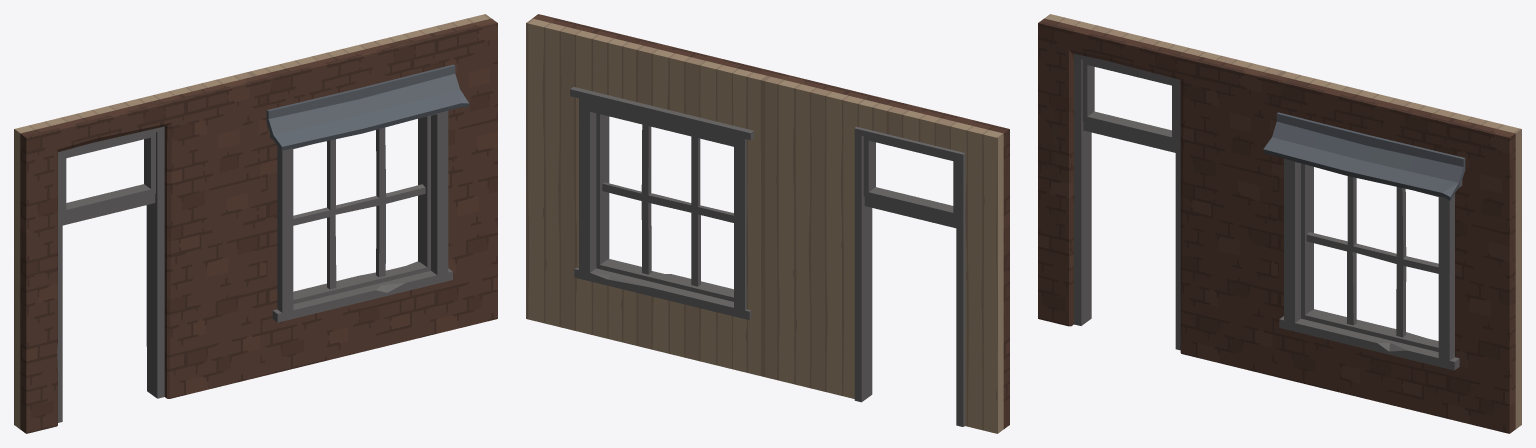
The model's file is SM_Bld_ShopFront_09.obj.
3 renders of one model, left to right at view 1: azimuth 30°, elevation 25°; view 2: azimuth 150°, elevation 25°; view 3: azimuth 330°, elevation 25°, orthographic.
Visible parts, largest first — view 1: SM_Bld_ShopFront_09_2, SM_Bld_ShopFront_09_0, SM_Bld_ShopFront_09_1; view 2: SM_Bld_ShopFront_09_1, SM_Bld_ShopFront_09_0, SM_Bld_ShopFront_09_2; view 3: SM_Bld_ShopFront_09_2, SM_Bld_ShopFront_09_0, SM_Bld_ShopFront_09_1.
Boxes of the visible parts, <box> form: SM_Bld_ShopFront_09_2: <box>20,18,497,433</box>; SM_Bld_ShopFront_09_0: <box>57,64,469,422</box>; SM_Bld_ShopFront_09_1: <box>14,14,491,428</box>; SM_Bld_ShopFront_09_1: <box>526,18,1003,433</box>; SM_Bld_ShopFront_09_0: <box>570,86,965,426</box>; SM_Bld_ShopFront_09_2: <box>532,14,1009,428</box>; SM_Bld_ShopFront_09_2: <box>1038,18,1515,433</box>; SM_Bld_ShopFront_09_0: <box>1074,53,1465,370</box>; SM_Bld_ShopFront_09_1: <box>1044,14,1521,428</box>.
Bounding box in the file's own units: 5 × 3 × 0.5699.
Materials: 3 (3 with a texture image).
